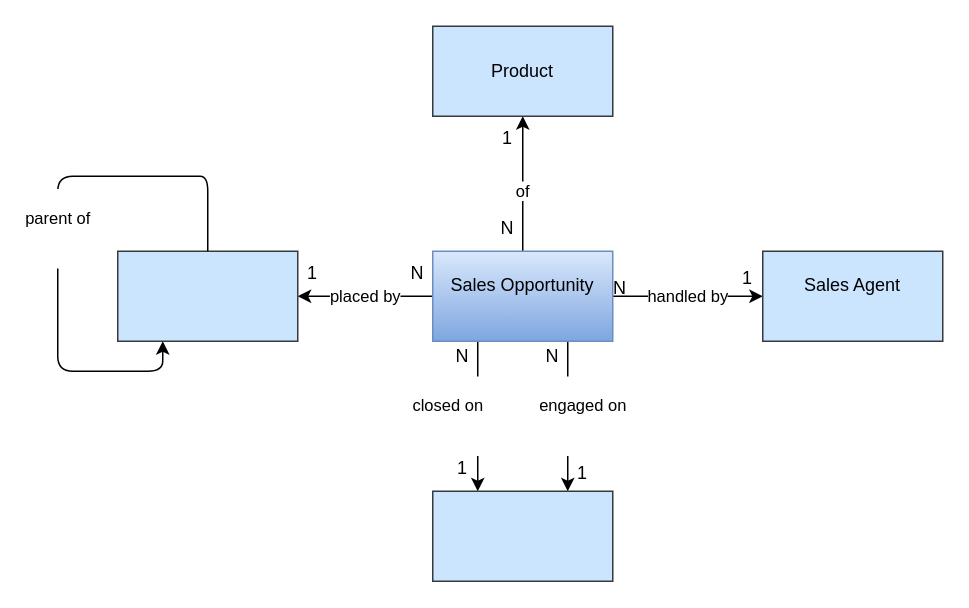
Some shapes in this 969 by 608 pixel diagram are drawn without their labels. Here are the shapes that lost their labels. From the top down, the centre of each, then its label:
(207,295): Account
(522,535): Date
